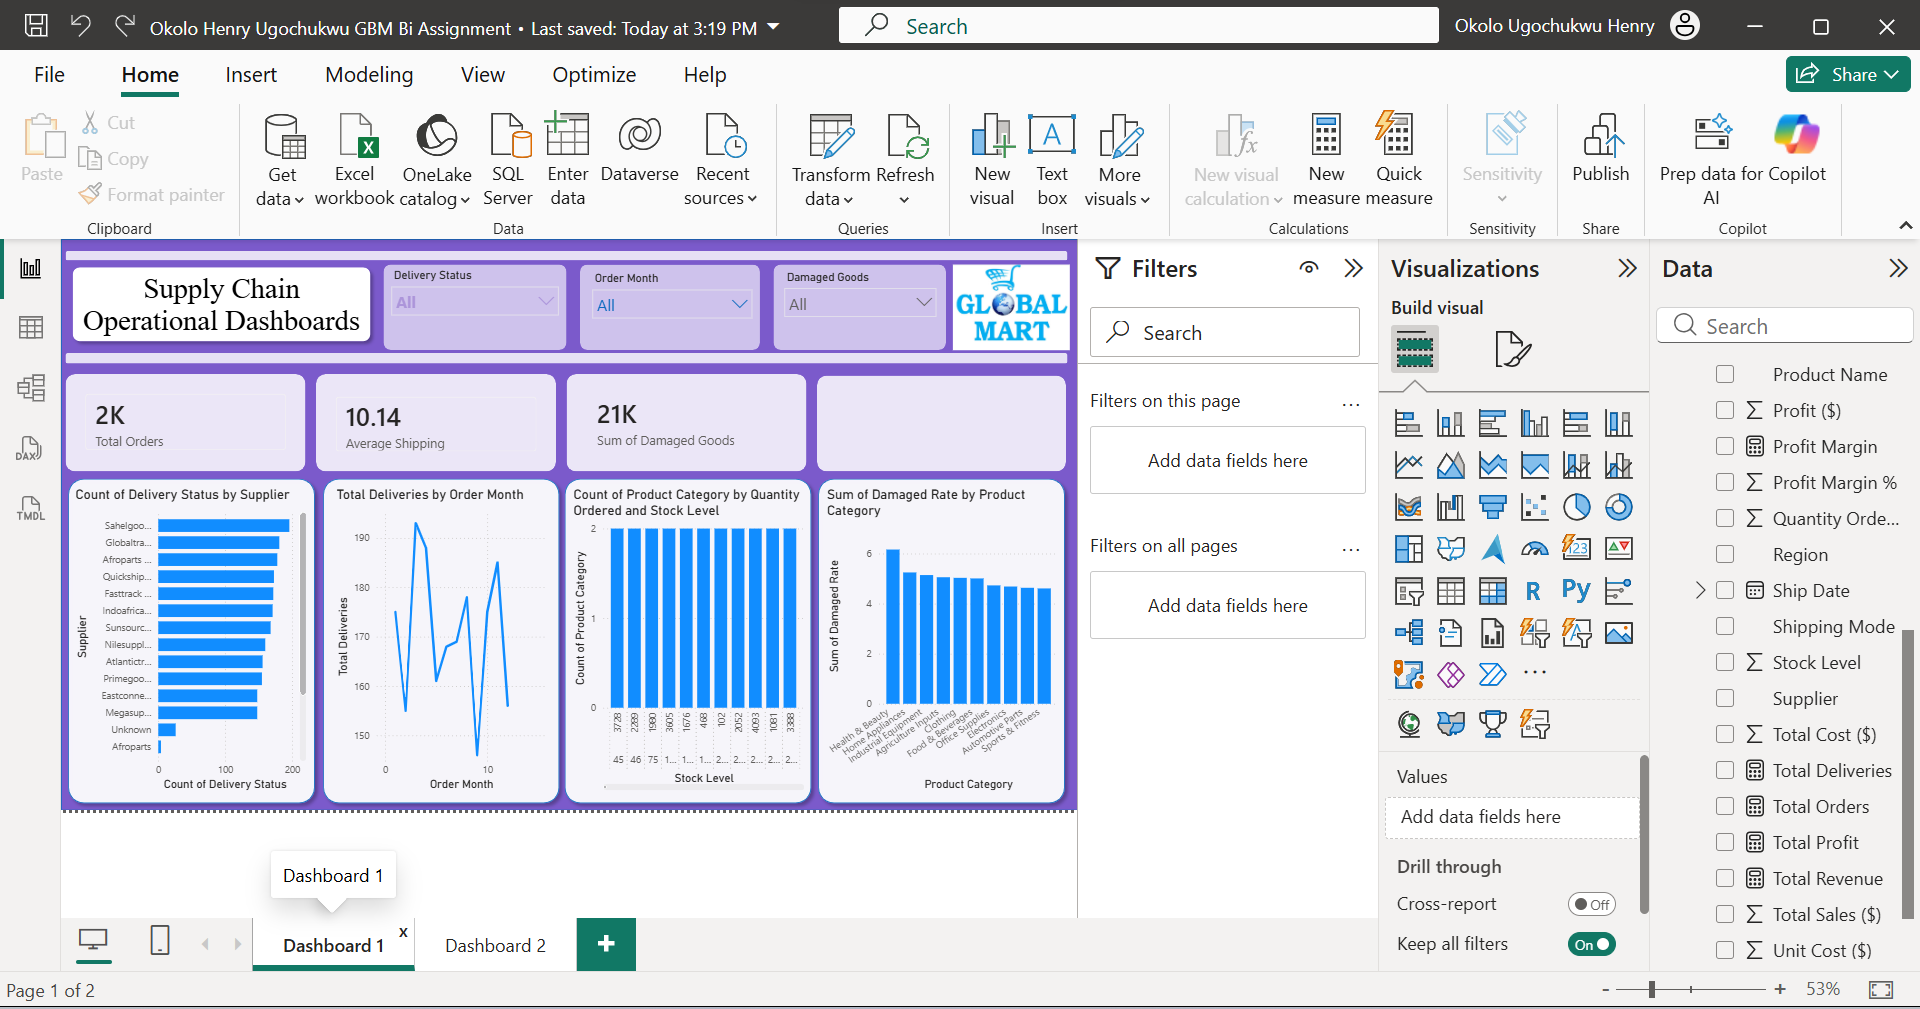

The dashboard page shown, as its layout file describes it:
{"tool":"powerbi","page":{"name":"Dashboard 1","canvas":[1280,720],"ordinal":0},"visuals":[{"type":"shape","box":[0,0,1281.3,720],"z":0},{"type":"shape","box":[5.7,26.5,393.1,111.5],"z":1000},{"type":"shape","box":[5.7,15.1,1262.4,12],"z":2000},{"type":"shape","box":[5.7,143.6,1262.4,13.2],"z":3000},{"type":"shape","box":[406.3,32.1,230.6,107.7],"z":4000},{"type":"shape","box":[653.9,32.1,226.8,107.7],"z":5000},{"type":"shape","box":[897.6,32.1,217.3,107.7],"z":6000},{"type":"image","box":[1115,32.1,164.4,107.7],"z":7000},{"type":"shape","box":[5.7,170.1,302.4,122.8],"z":8000},{"type":"shape","box":[321.3,170.1,302.4,122.8],"z":9000},{"type":"shape","box":[636.9,170.1,302.4,122.8],"z":10000},{"type":"shape","box":[952.4,172,313.7,120.9],"z":11000},{"type":"cardVisual","fields":{"Data":["CleanedData.Total Orders"]},"box":[13.2,177.6,287.2,105.8],"z":12000},{"type":"cardVisual","fields":{"Data":["CleanedData.Average Shipping"]},"box":[328.8,181.4,287.2,103.9],"z":13000},{"type":"cardVisual","fields":{"Data":["Sum(CleanedData.Damaged Goods)"]},"box":[646.3,177.6,285.4,105.8],"z":14000},{"type":"shape","box":[0,292.9,328.8,427.1],"z":15000},{"type":"clusteredBarChart","fields":{"Y":["CountNonNull(CleanedData.Delivery Status)"],"Category":["CleanedData.Supplier"]},"box":[13.2,311.8,300.5,387.4],"z":16000},{"type":"shape","box":[321.3,292.9,315.6,427.1],"z":17000},{"type":"shape","box":[625.5,292.9,328.8,427.1],"z":18000},{"type":"shape","box":[944.9,292.9,328.8,427.1],"z":19000},{"type":"lineChart","fields":{"Category":["CleanedData.Order Month"],"Y":["CleanedData.Total Deliveries"]},"box":[342,311.8,274,387.4],"z":20000},{"type":"columnChart","fields":{"Category":["CleanedData.Quantity Ordered","CleanedData.Stock Level"],"Y":["CountNonNull(CleanedData.Product Category)"]},"box":[640.6,311.8,300.5,387.4],"z":21000},{"type":"clusteredColumnChart","fields":{"Category":["CleanedData.Product Category"],"Y":["Sum(CleanedData.Damaged Rate)"]},"box":[960,311.8,300.5,387.4],"z":22000},{"type":"slicer","fields":{"Values":["CleanedData.Delivery Status"]},"box":[406.3,32.1,230.6,102],"z":23000},{"type":"slicer","fields":{"Values":["CleanedData.Order Month"]},"box":[659.5,35.9,221.1,98.3],"z":24000},{"type":"slicer","fields":{"Values":["CleanedData.Damaged Goods"]},"box":[901.4,34,211.7,102],"z":25000}]}

Visuals, with their boxes on the page's 1280x720 design canvas (x1, y1, x2, y2). These are canvas units, not pixel positions in the 1920x1009 screenshot, which may show the page scaled, cropped or inside an application window:
shape: 0:0:1281:720
shape: 6:26:399:138
shape: 6:15:1268:27
shape: 6:144:1268:157
shape: 406:32:637:140
shape: 654:32:881:140
shape: 898:32:1115:140
image: 1115:32:1279:140
shape: 6:170:308:293
shape: 321:170:624:293
shape: 637:170:939:293
shape: 952:172:1266:293
cardVisual - CleanedData.Total Orders: 13:178:300:283
cardVisual - CleanedData.Average Shipping: 329:181:616:285
cardVisual - Sum(CleanedData.Damaged Goods): 646:178:932:283
shape: 0:293:329:720
clusteredBarChart - CountNonNull(CleanedData.Delivery Status) x CleanedData.Supplier: 13:312:314:699
shape: 321:293:637:720
shape: 626:293:954:720
shape: 945:293:1274:720
lineChart - CleanedData.Order Month x CleanedData.Total Deliveries: 342:312:616:699
columnChart - CleanedData.Quantity Ordered x CleanedData.Stock Level: 641:312:941:699
clusteredColumnChart - CleanedData.Product Category x Sum(CleanedData.Damaged Rate): 960:312:1260:699
slicer - CleanedData.Delivery Status: 406:32:637:134
slicer - CleanedData.Order Month: 660:36:881:134
slicer - CleanedData.Damaged Goods: 901:34:1113:136
